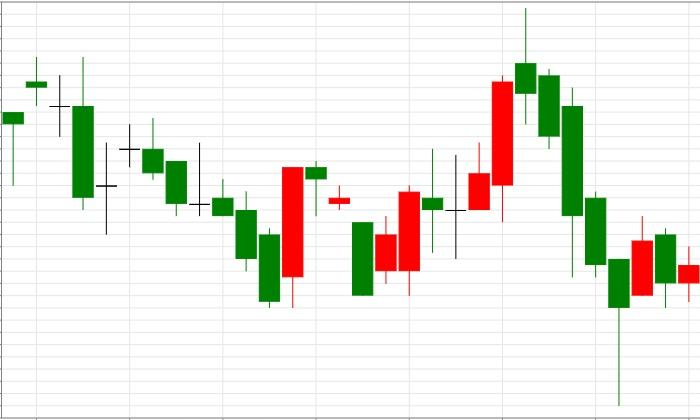hammer_rise: (514, 8, 629, 407)
